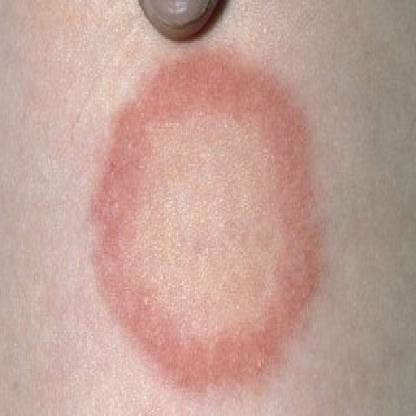Ringworm: (82, 36, 343, 408)
